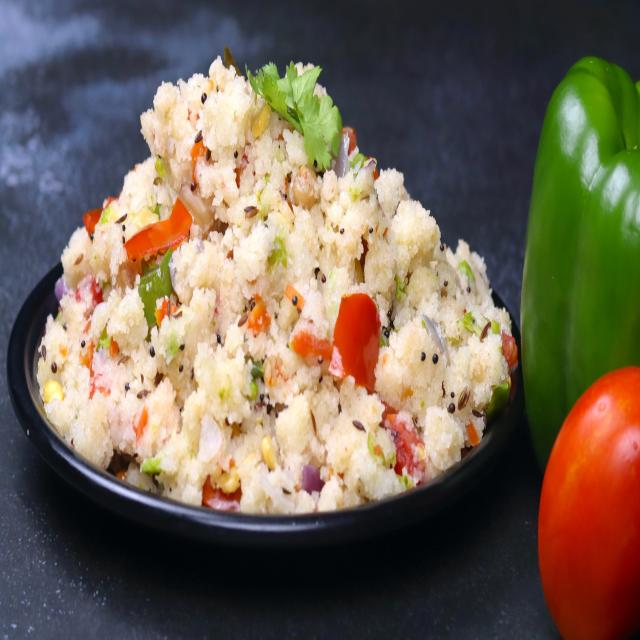UPMA: (28, 52, 516, 511)
